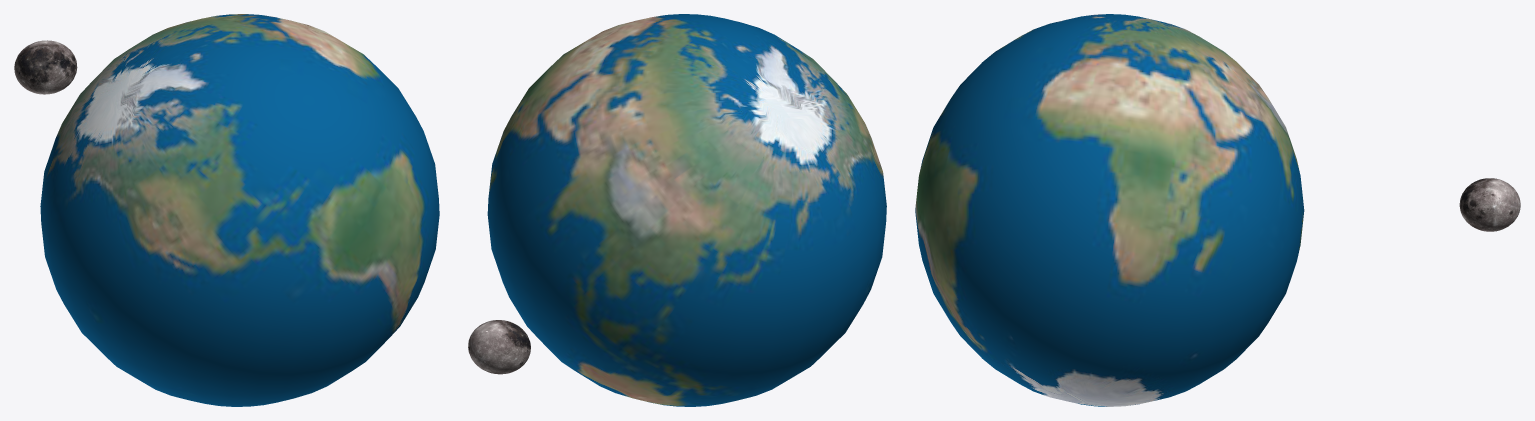
The model's file is moonearth.gltf.
3 views of the same model, side by side, from view 1: azimuth 30°, elevation 25°; view 2: azimuth 150°, elevation 25°; view 3: azimuth 270°, elevation 25° (orthographic).
Parts seen in each view (by area): view 1: Sphere.001, Sphere.002; view 2: Sphere.001, Sphere.002; view 3: Sphere.001, Sphere.002.
Part boxes in pixels (box(x1,y1,x2,y2)): Sphere.001: box(40, 14, 439, 406); Sphere.002: box(14, 40, 77, 94); Sphere.001: box(487, 14, 886, 406); Sphere.002: box(468, 320, 530, 374); Sphere.001: box(915, 14, 1304, 406); Sphere.002: box(1459, 178, 1520, 231).
Bounding box in the file's own units: 76.63 × 74.68 × 115.
2 materials, 2 textured.
